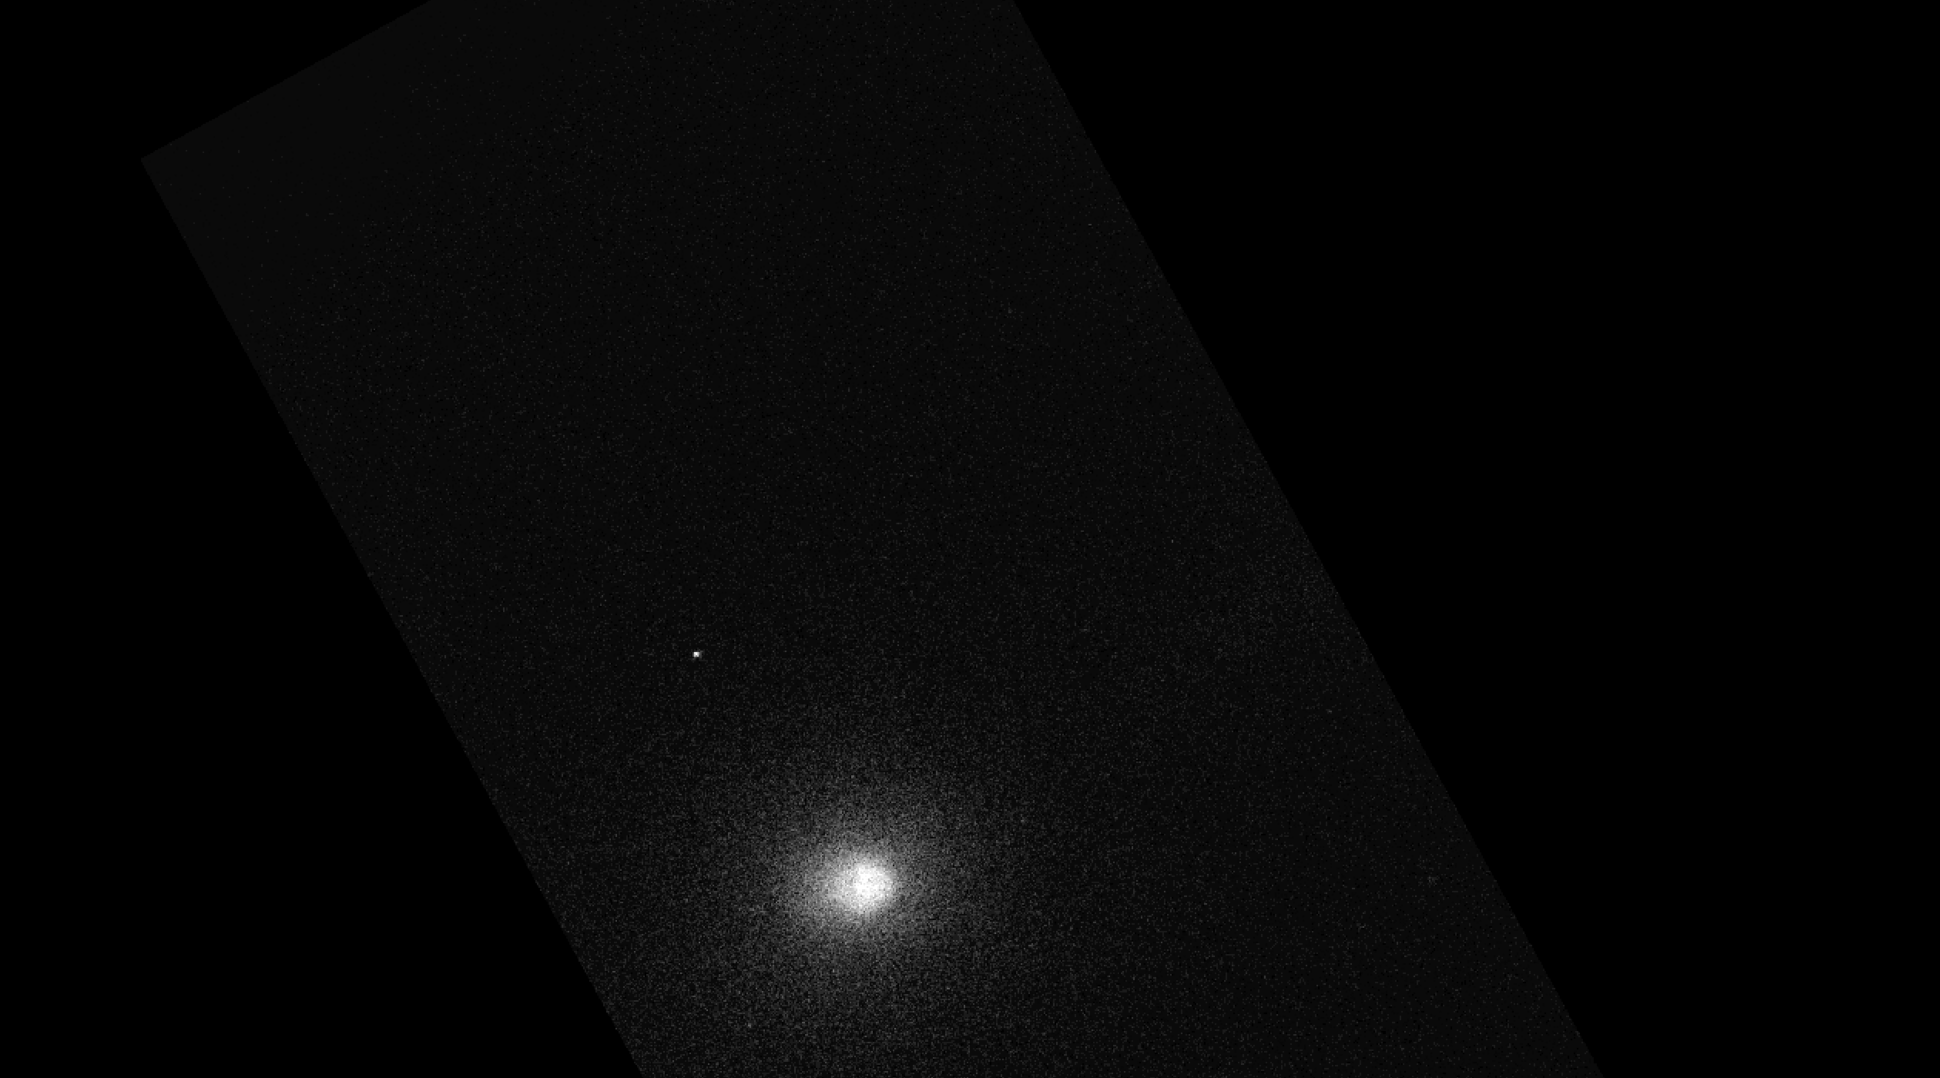Cavity: (843, 875, 856, 887)
Galaxy: (770, 828, 932, 944)
